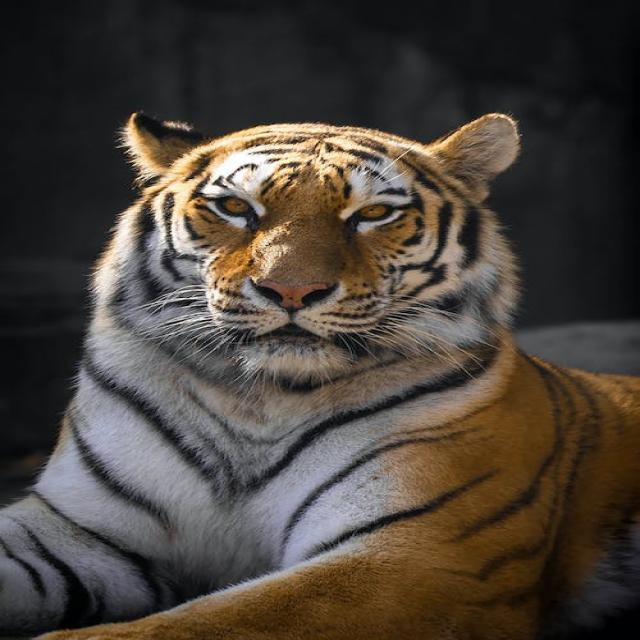not_pig: (1, 108, 638, 638)
